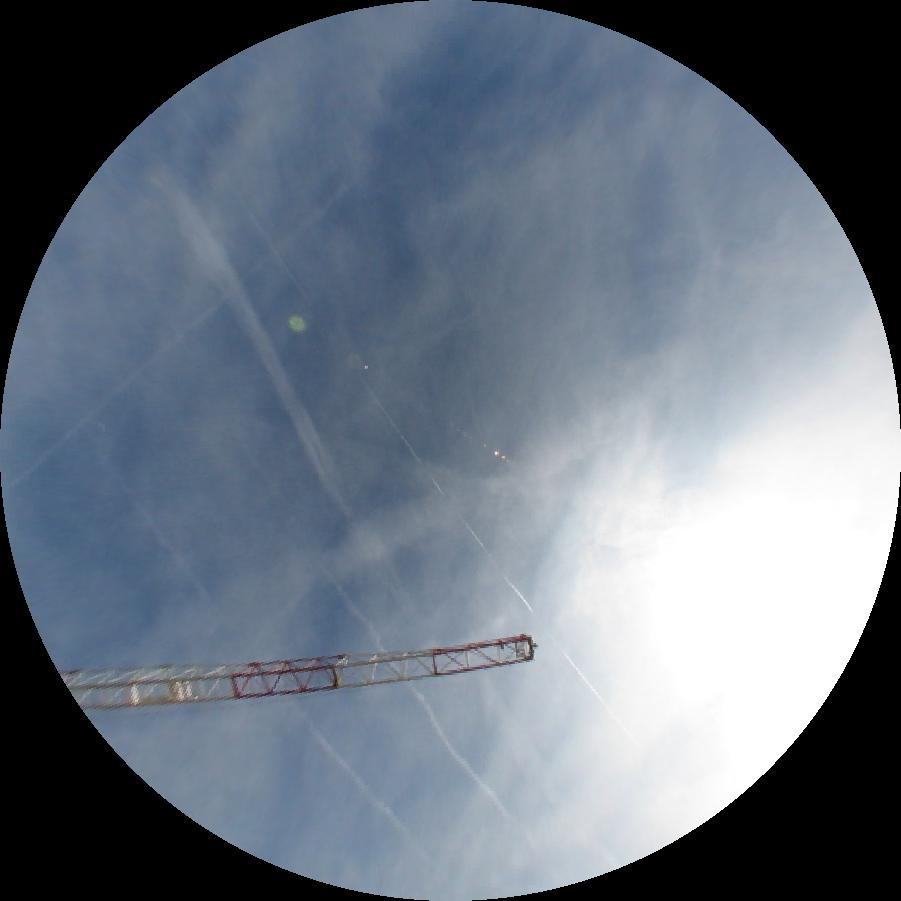contrail old: (170, 320, 509, 819), (116, 469, 429, 857)
contrail veryold: (152, 161, 622, 870), (136, 349, 670, 656)
contrail young: (234, 185, 631, 735), (2, 182, 348, 495)
sun: (653, 492, 889, 722)
